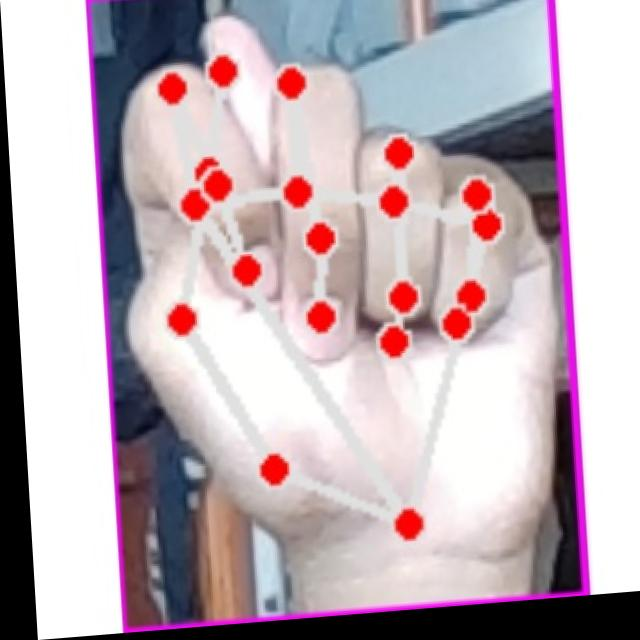T: (116, 0, 560, 585)
